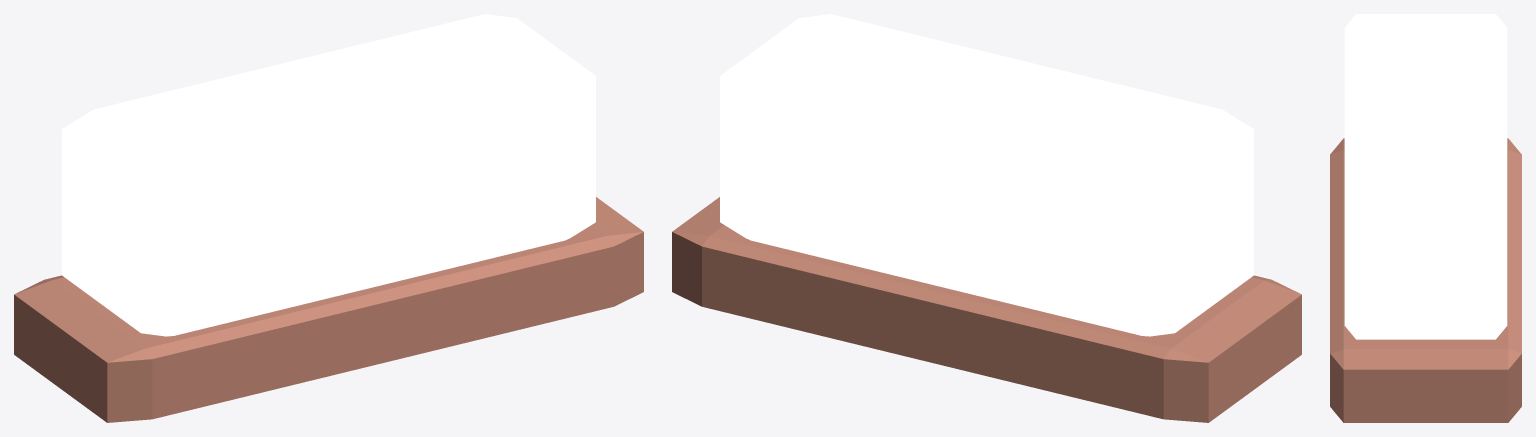
The model's file is b18_recessed_brick_step_light.glb.
3 views of the same model, side by side, from view 1: azimuth 30°, elevation 25°; view 2: azimuth 150°, elevation 25°; view 3: azimuth 270°, elevation 25° (orthographic). The views are drawn at different scales.
Visible parts, largest first — view 1: b18_recessed_brick_step_light; view 2: b18_recessed_brick_step_light; view 3: b18_recessed_brick_step_light.
Boxes of the visible parts, <box> form: b18_recessed_brick_step_light: <box>14,14,643,422</box>; b18_recessed_brick_step_light: <box>672,14,1301,422</box>; b18_recessed_brick_step_light: <box>1330,14,1521,422</box>.
Size of the model in its own units: 0.26 by 0.11 by 0.091.
